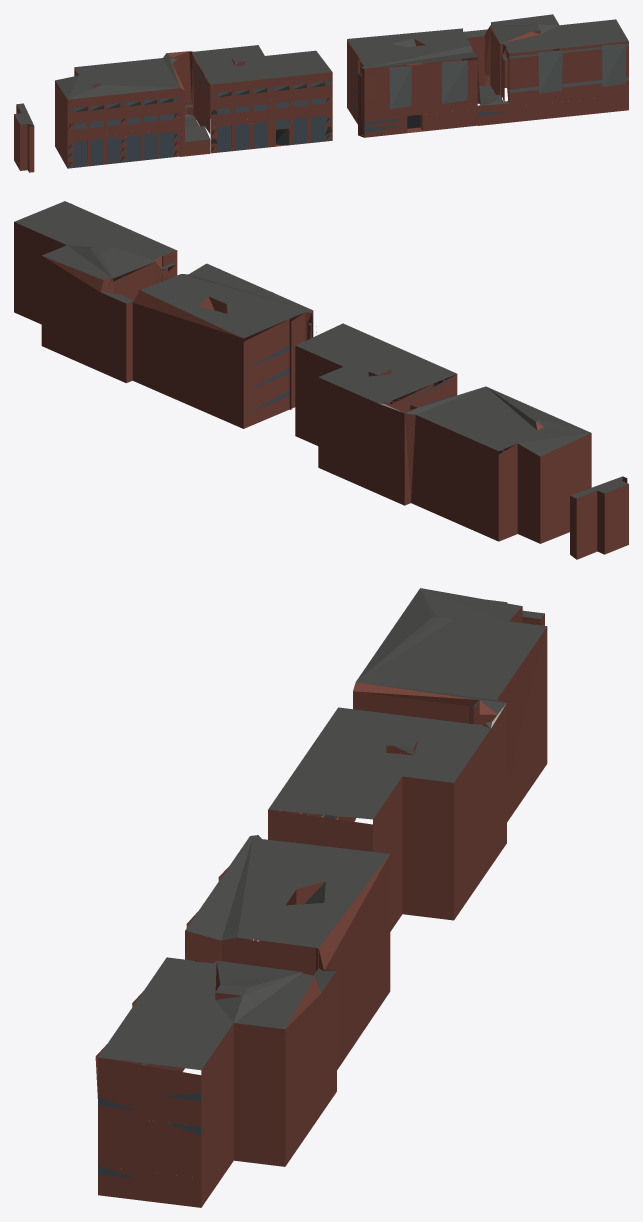
The model's file is klapmutsenveem-30.lod2.glb.
3 views of the same model, one above another, from view 1: azimuth 30°, elevation 25°; view 2: azimuth 150°, elevation 25°; view 3: azimuth 270°, elevation 25° (orthographic). The views are drawn at different scales.
Visible parts, largest first — view 1: lod2; view 2: lod2; view 3: lod2.
Boxes of the visible parts, left/top/right/bottom form: lod2: left=14, top=14, right=628, bottom=172; lod2: left=14, top=201, right=628, bottom=559; lod2: left=95, top=588, right=547, bottom=1207.
Bounding box in the file's own units: 191 × 24.98 × 70.41.
